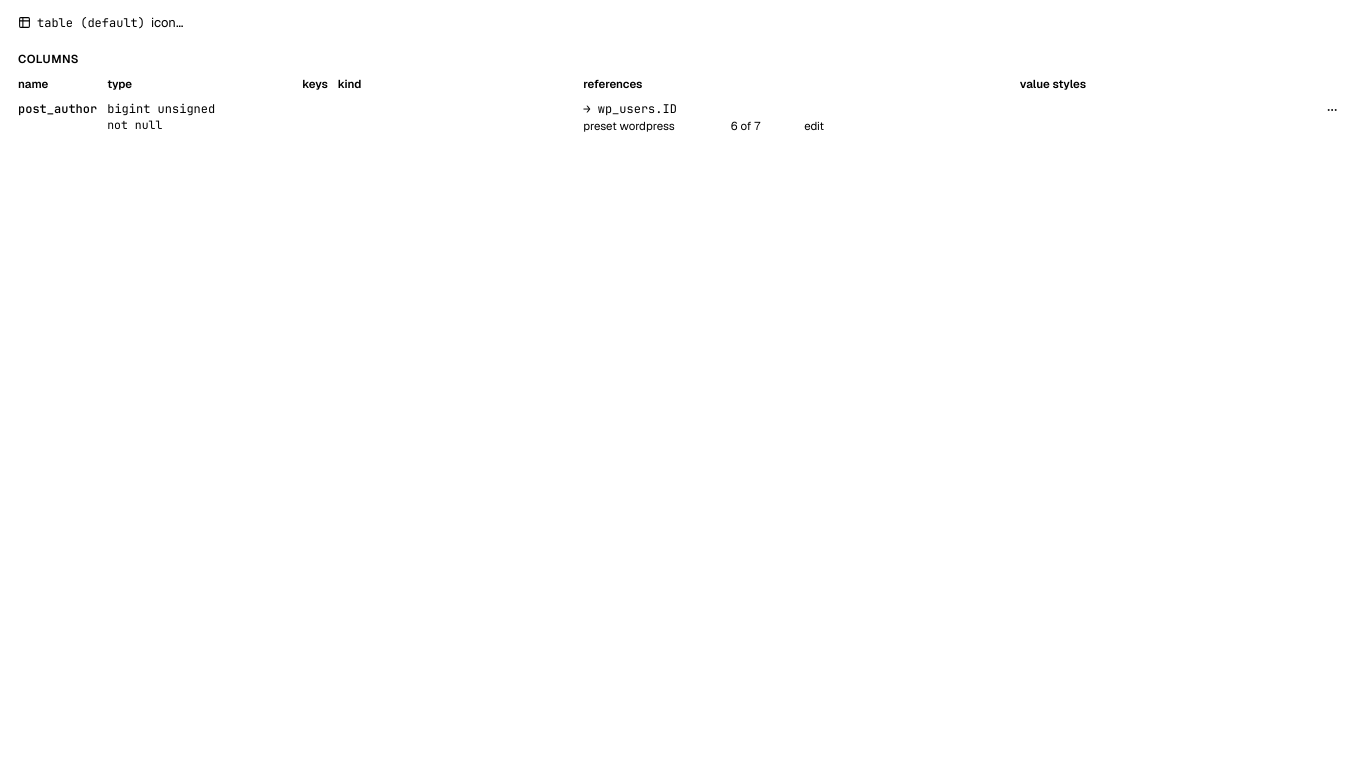
Test: StructureView › references › opens the rule sheet to edit a reference
Click the button "edit" at (814, 126), box 804,118 -> 824,133
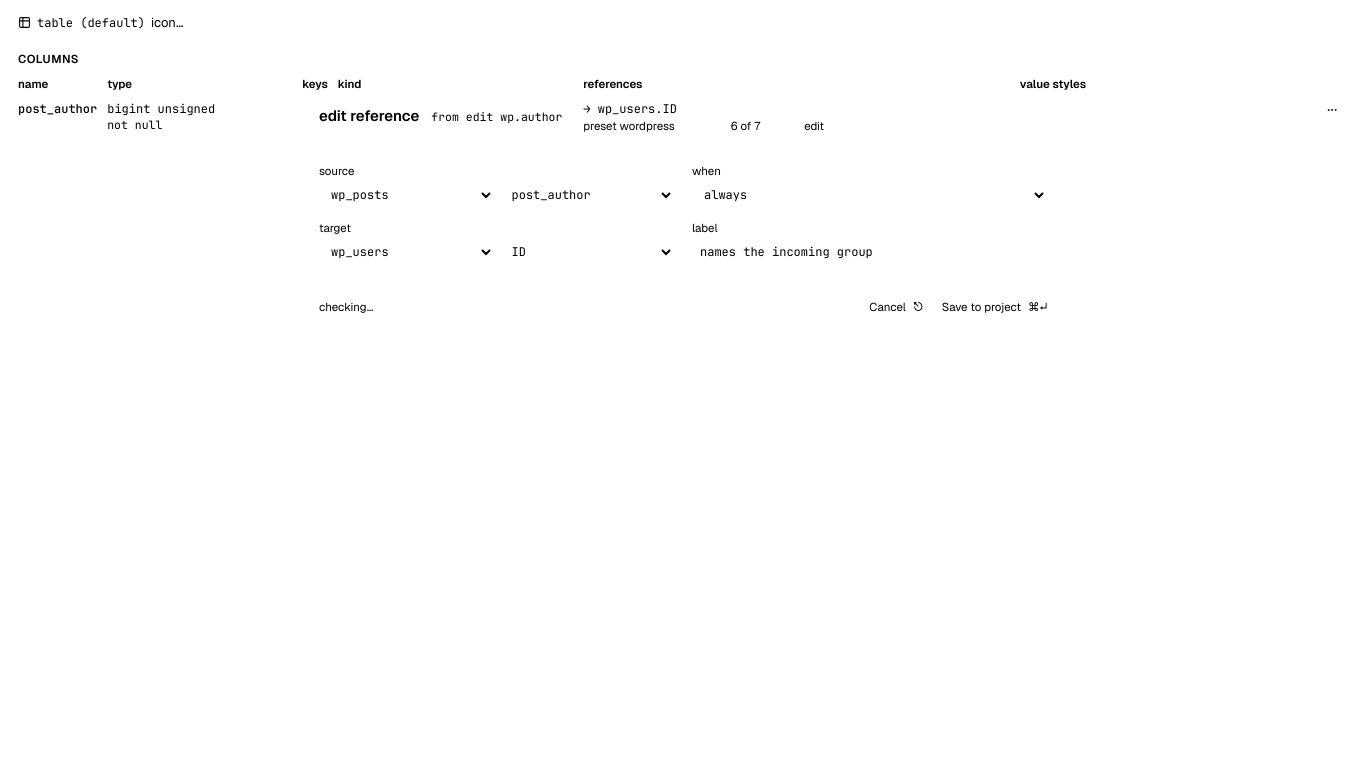
Check: the dialog "edit reference" is shown, box 303,92 -> 1063,324
